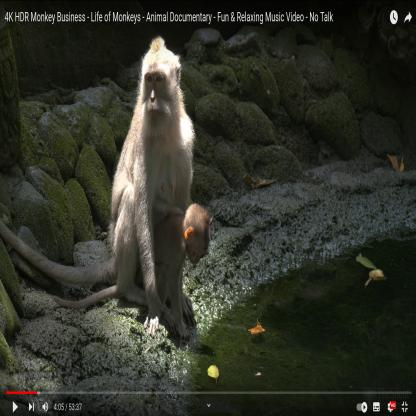monkey: (108, 35, 198, 344)
